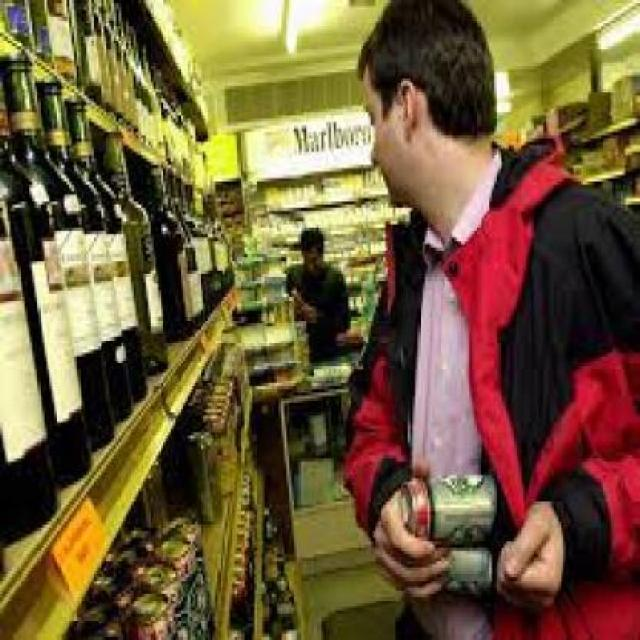Shoplifting: (275, 220, 588, 640)
